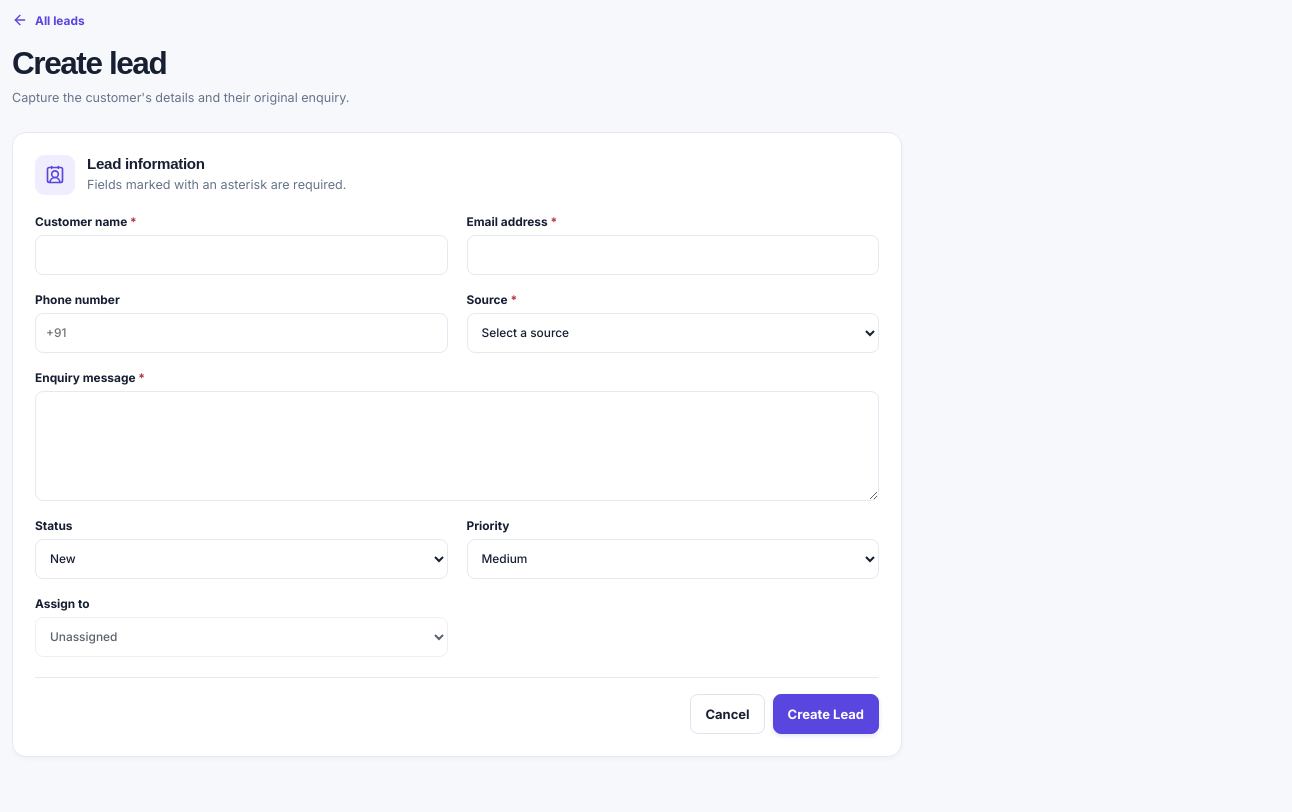
lead workflow › shows a server rejection and retains the enquiry for correction
Type "Ishita Demo" into the field labelled "Customer name". click: (241, 255)
box: [35,235,448,275]
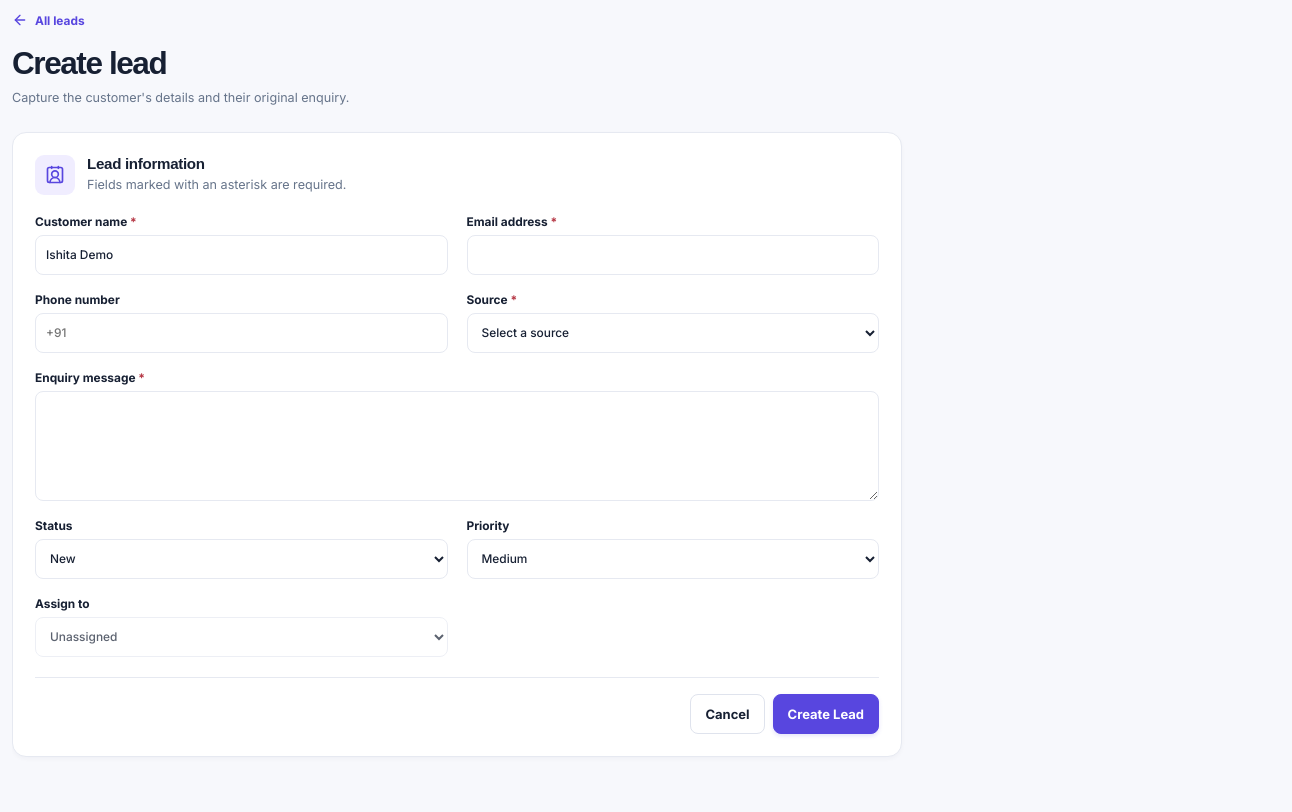
Type "ishita@example.test" into the field labelled "Email address". click: (673, 255)
box: [466,235,879,275]
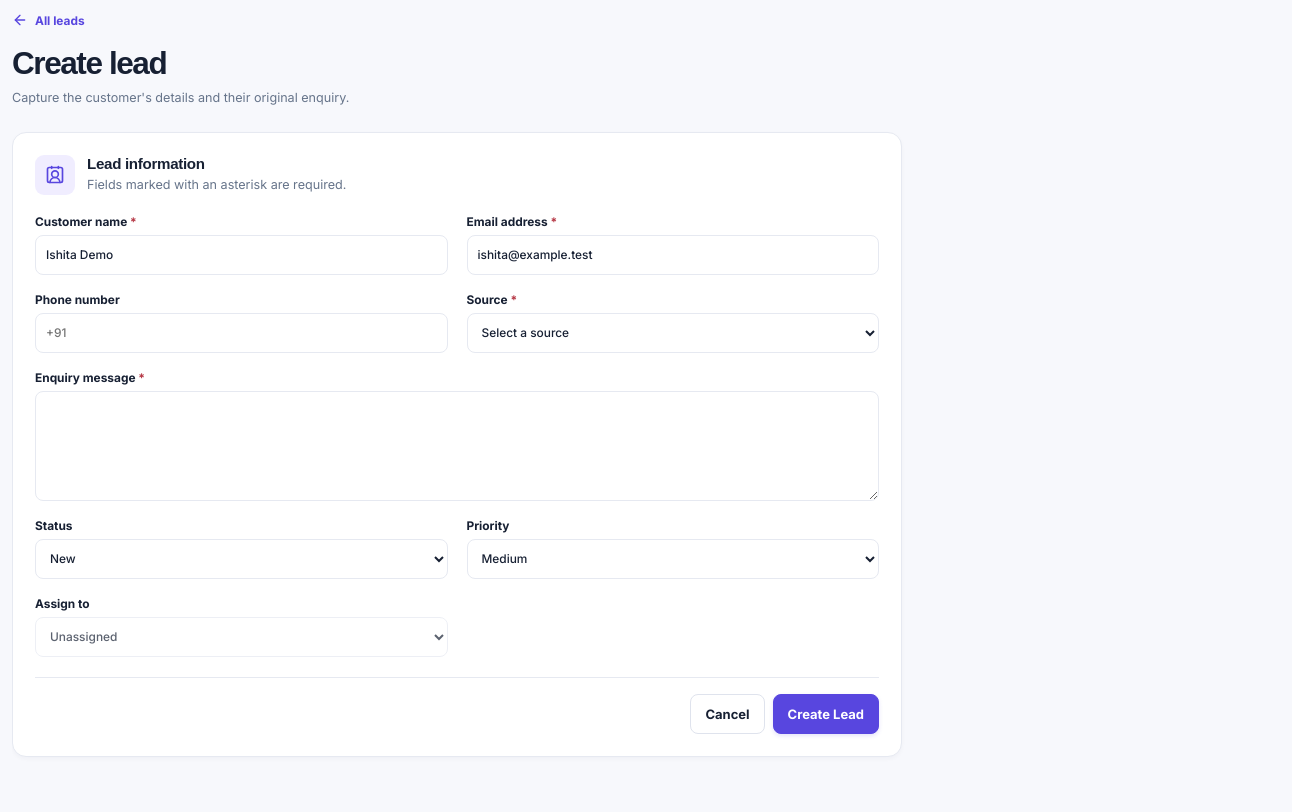
Select "Manual" in the dropdown labelled "Source". click: (673, 333)
box: [466,313,879,353]
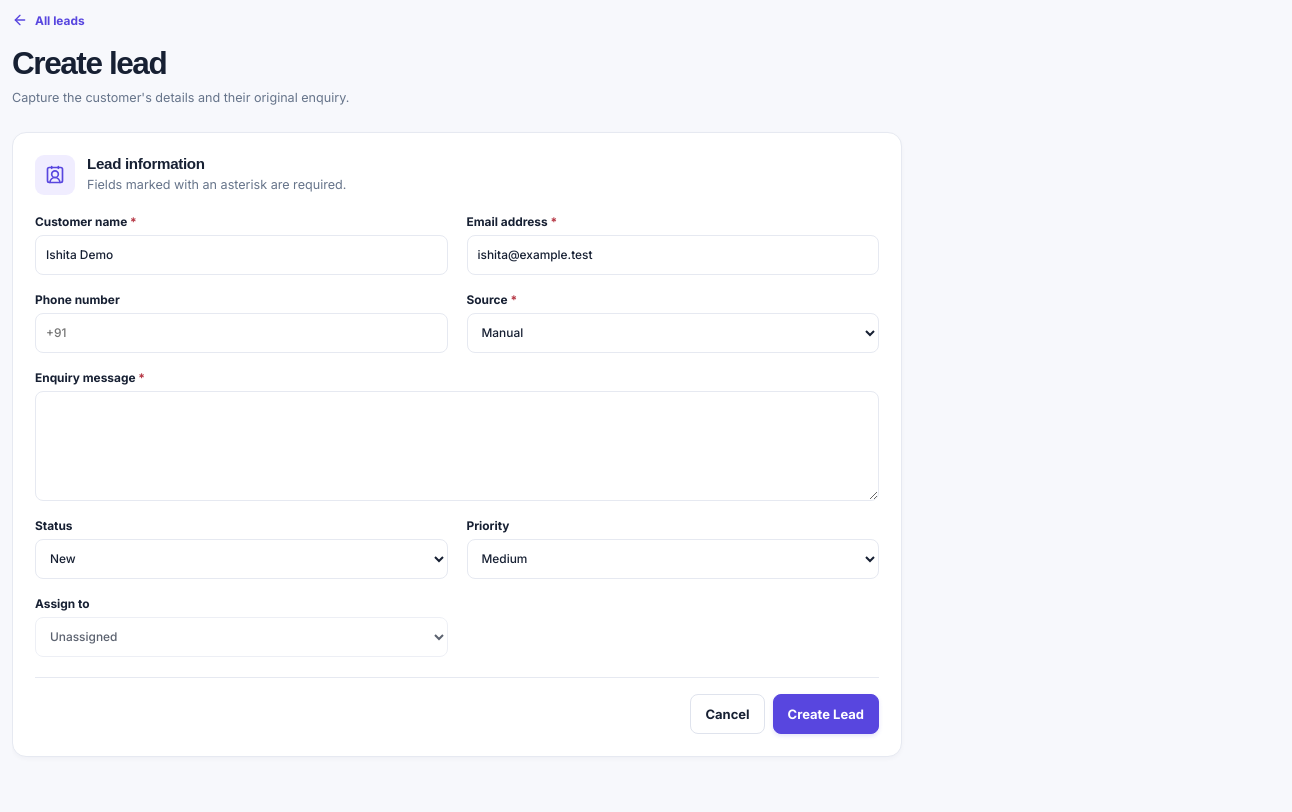
Type "I would like a 3BHK in Greater Noida with a site visit next week." into the text box labelled "Enquiry message". click: (457, 446)
box: [35,391,879,501]
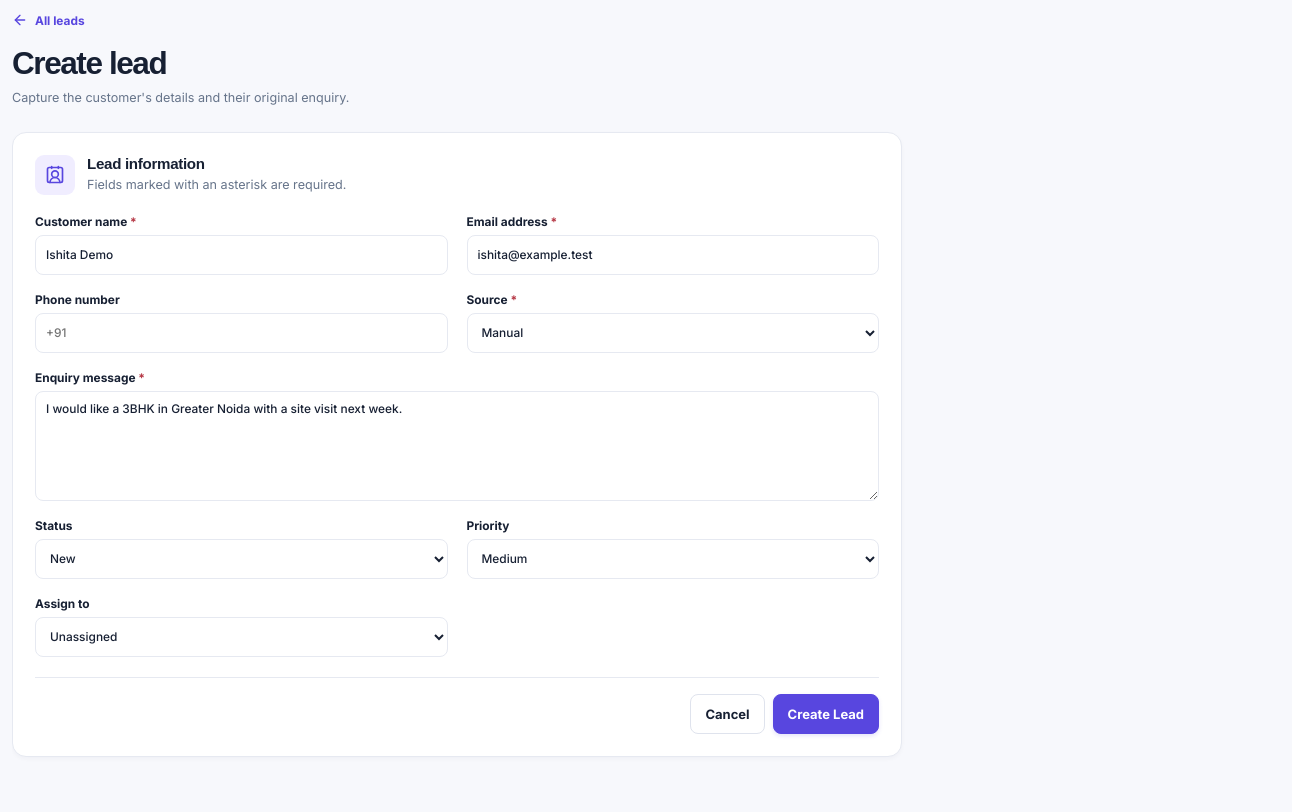
Click the button "Create Lead". click: (826, 714)
box: [773,694,879,734]
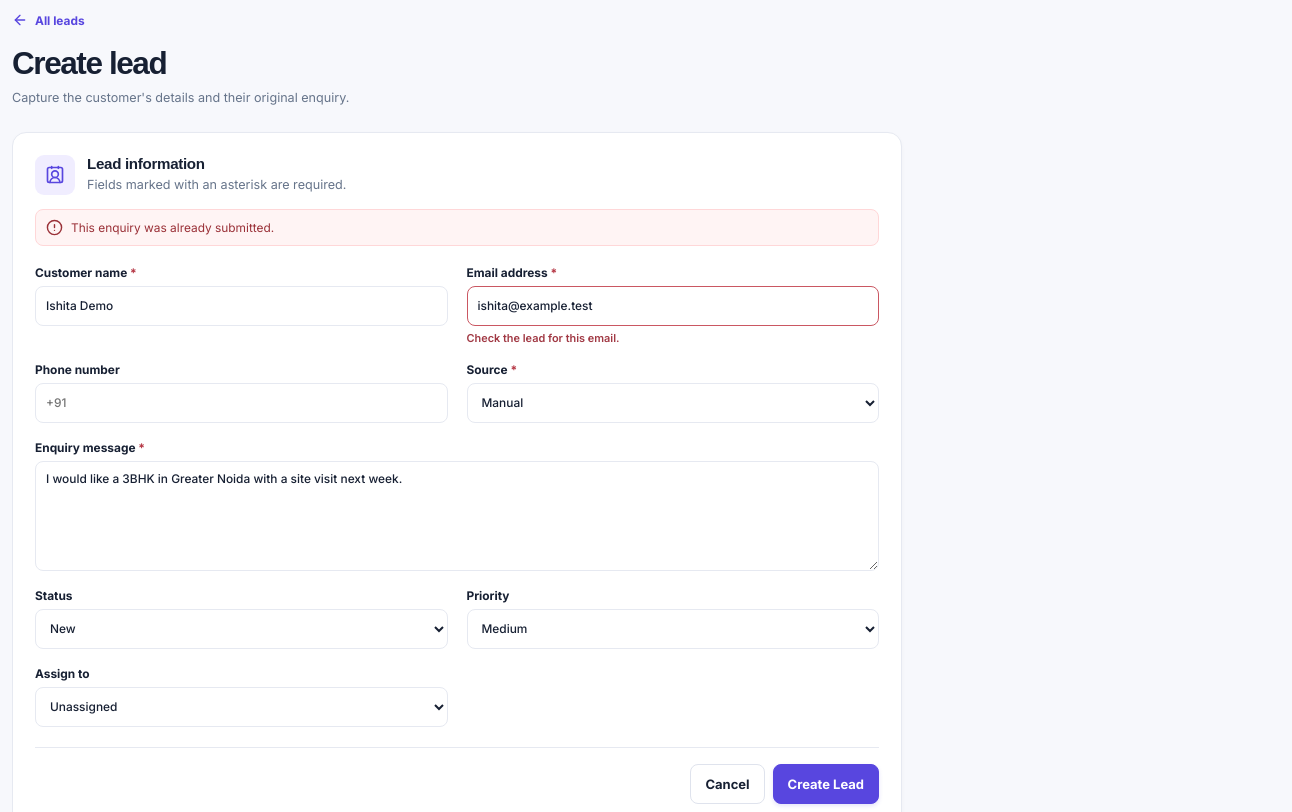
Now the message reads "This enquiry was already submitted.", box [71,220,274,235]
